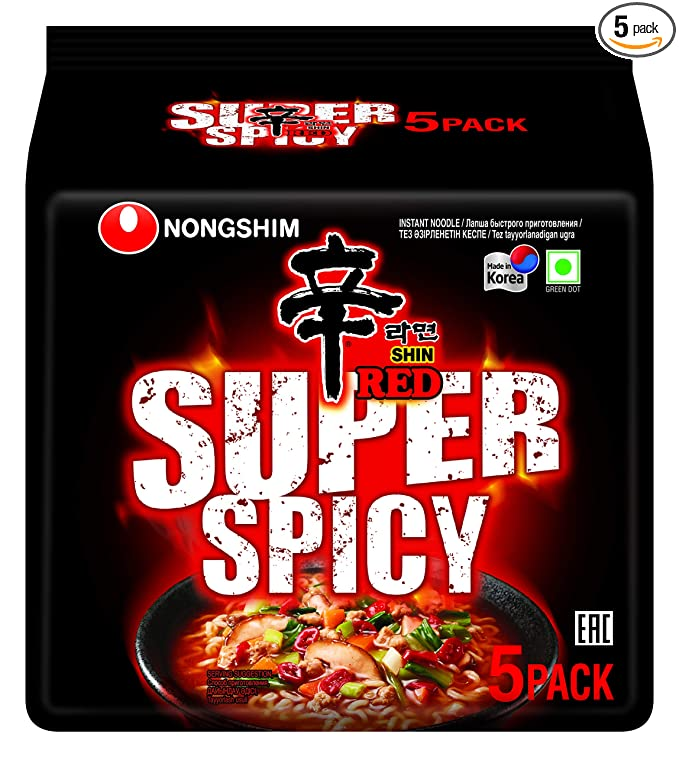veg: (546, 242, 589, 314)
